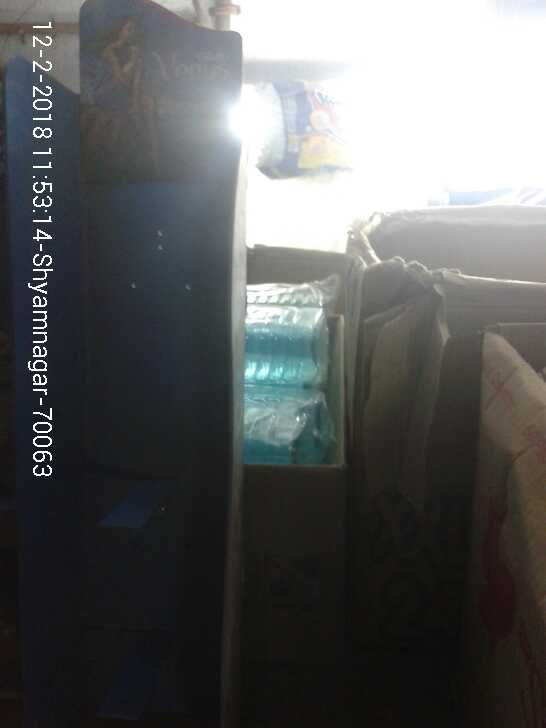reject: (277, 273, 333, 331)
